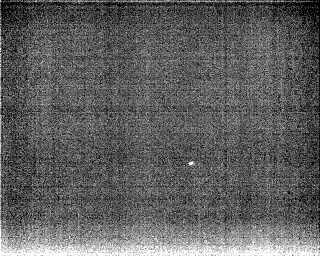AIRPLANE: (186, 158, 196, 170)
